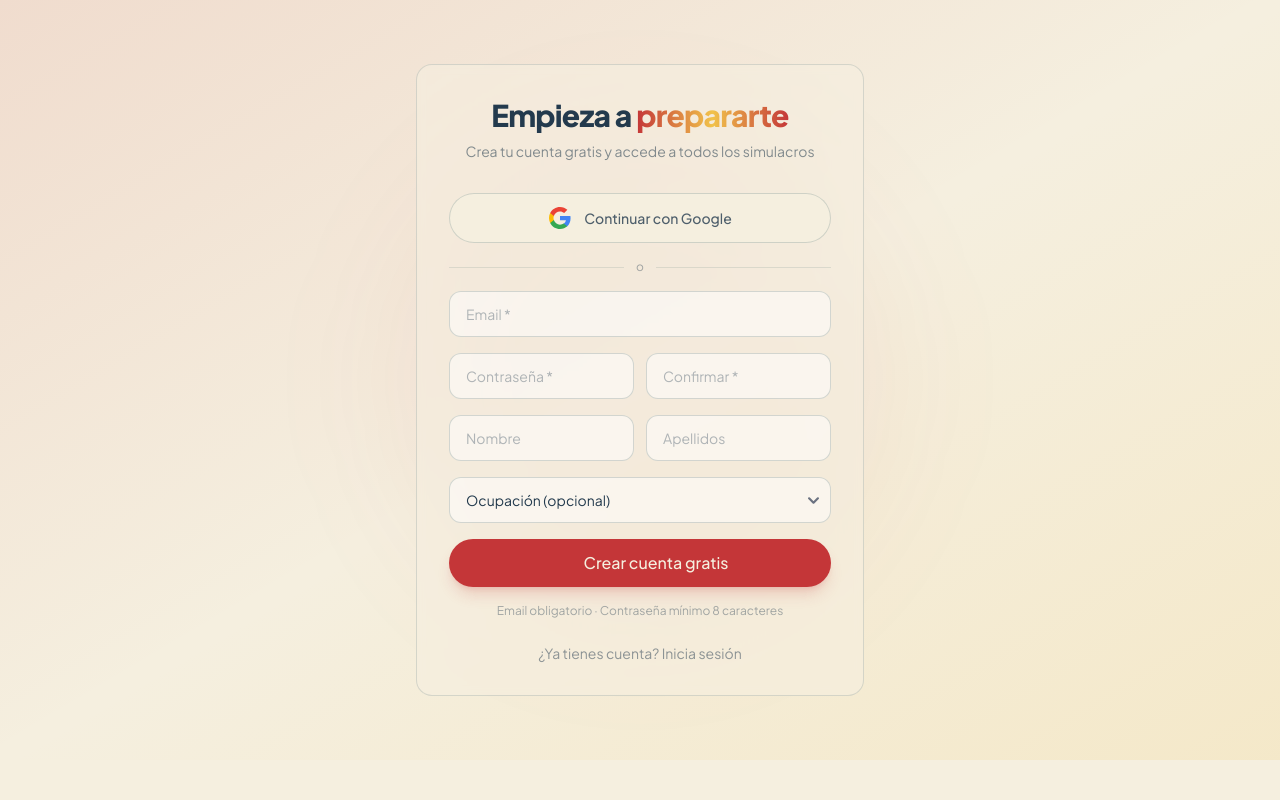
it: Register component › shows error for invalid email format
The image size is (1280, 800).
Type "not-valid" into the field with placeholder "Email *" at [640, 314], box [449,291,831,337]
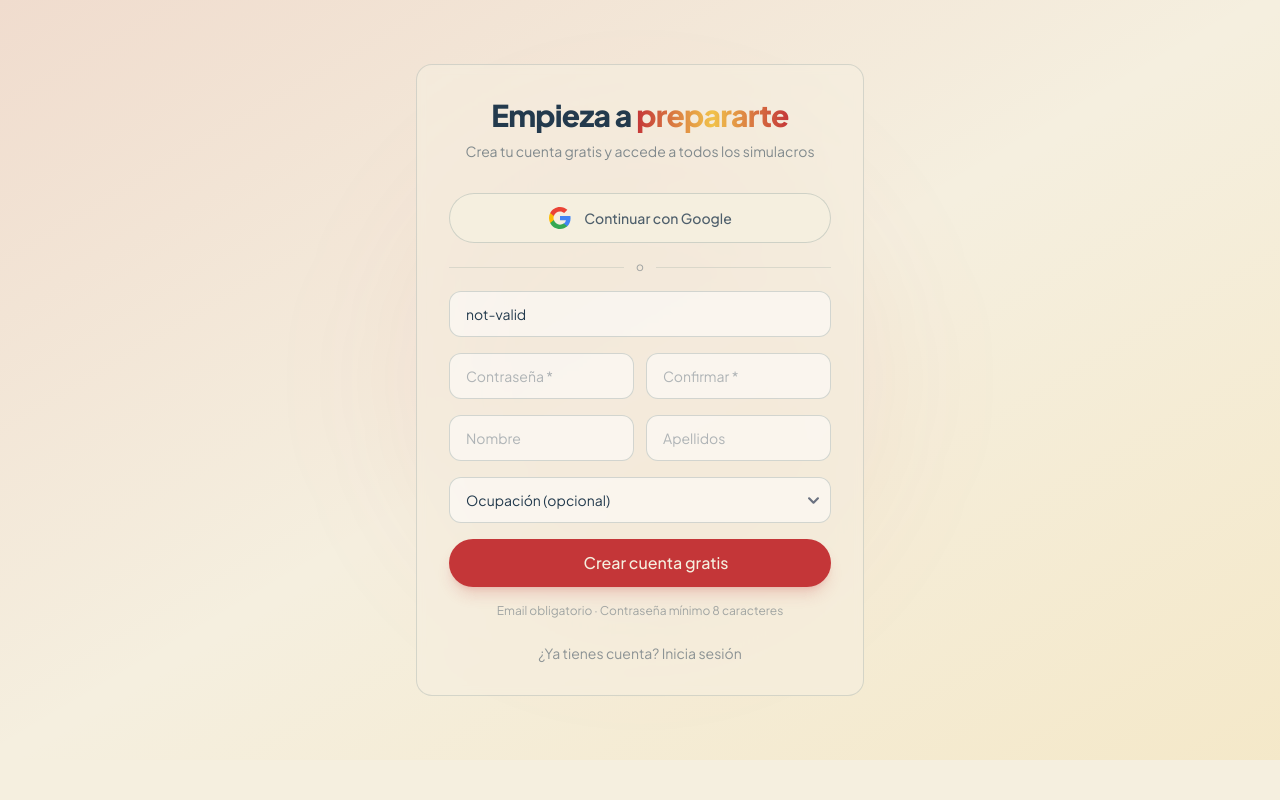
Click the button "Crear cuenta gratis" at [640, 563], box [449,539,831,587]
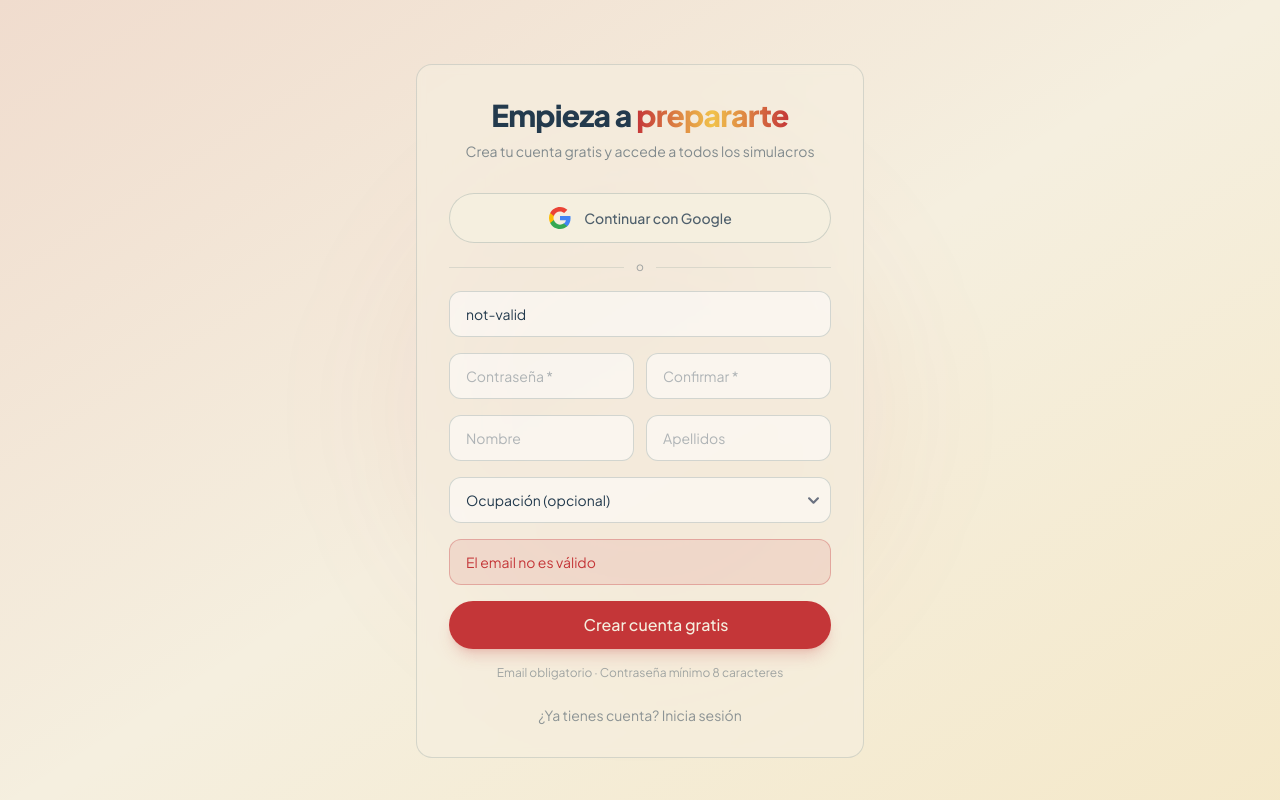
Now the text "El email no es válido" is shown, box [449,539,831,585]
